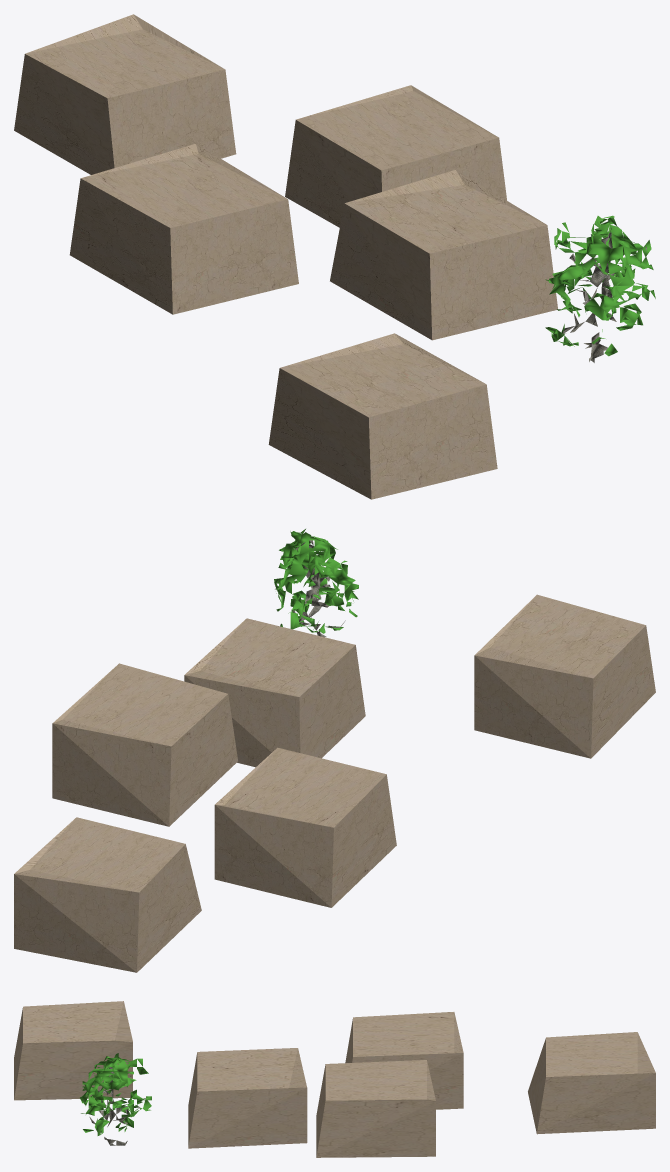
File: tile_-3_-2.gltf
The picture shows the model from 3 angles, top to bottom: view 1: azimuth 30°, elevation 25°; view 2: azimuth 150°, elevation 25°; view 3: azimuth 270°, elevation 25°; orthographic projection. The views are drawn at different scales.
Visible parts, largest first — view 1: Plane.011@tile_-3_-2, Bodhi Tree_Bodhi_front_2_Mat_0.044@tile_-3_-2; view 2: Plane.011@tile_-3_-2, Bodhi Tree_Bodhi_front_2_Mat_0.044@tile_-3_-2; view 3: Plane.011@tile_-3_-2, Bodhi Tree_Bodhi_front_2_Mat_0.044@tile_-3_-2.
Part boxes in pixels (x1=…): Plane.011@tile_-3_-2: x1=14, y1=14, x2=557, y2=499; Bodhi Tree_Bodhi_front_2_Mat_0.044@tile_-3_-2: x1=545, y1=215, x2=655, y2=362; Plane.011@tile_-3_-2: x1=14, y1=594, x2=655, y2=972; Bodhi Tree_Bodhi_front_2_Mat_0.044@tile_-3_-2: x1=274, y1=529, x2=358, y2=637; Plane.011@tile_-3_-2: x1=14, y1=1001, x2=655, y2=1157; Bodhi Tree_Bodhi_front_2_Mat_0.044@tile_-3_-2: x1=80, y1=1053, x2=151, y2=1145.
Size of the model in its own units: 29.27 by 11.91 by 63.08.
Materials: 3 (2 with a texture image).
